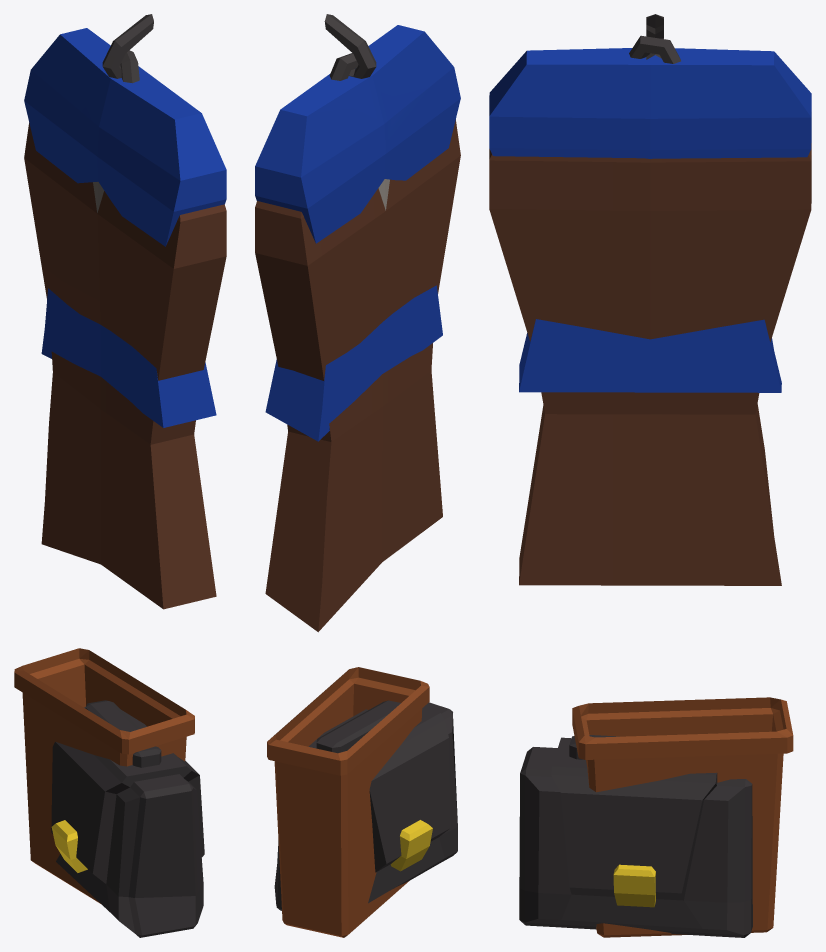
File: g_o_lockerassets.fbx
3 views of the same model, side by side, from view 1: azimuth 30°, elevation 25°; view 2: azimuth 150°, elevation 25°; view 3: azimuth 270°, elevation 25° (orthographic). The views are drawn at different scales.
Parts seen in each view (by area): view 1: coat_01, coat_03, bag, bucket; view 2: coat_01, coat_03, bucket, bag; view 3: coat_01, coat_03, bag, bucket.
Part boxes in pixels (<box>): coat_01: <box>24,14,226,609</box>; coat_03: <box>24,28,226,427</box>; bag: <box>51,700,204,937</box>; bucket: <box>14,648,194,903</box>; coat_01: <box>255,14,460,632</box>; coat_03: <box>255,25,460,441</box>; bucket: <box>267,667,429,937</box>; bag: <box>274,700,457,910</box>; coat_01: <box>489,14,811,585</box>; coat_03: <box>489,48,811,392</box>; bag: <box>519,735,752,937</box>; bucket: <box>572,697,793,937</box>.
Size of the model in its own units: 0.2009 by 1.36 by 0.4296.
